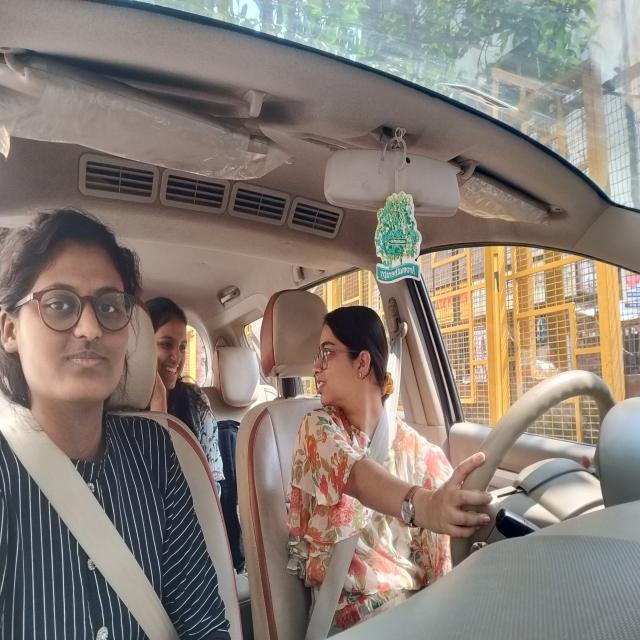LeftRight: (309, 314, 391, 417)
person: (8, 225, 132, 410), (148, 299, 192, 391)
talking: (309, 378, 329, 396)
